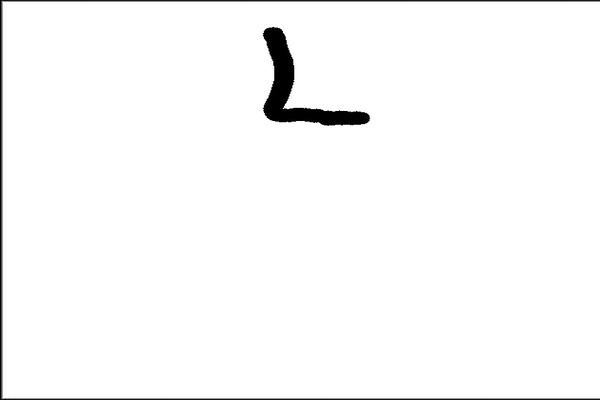L: (255, 20, 377, 133)
